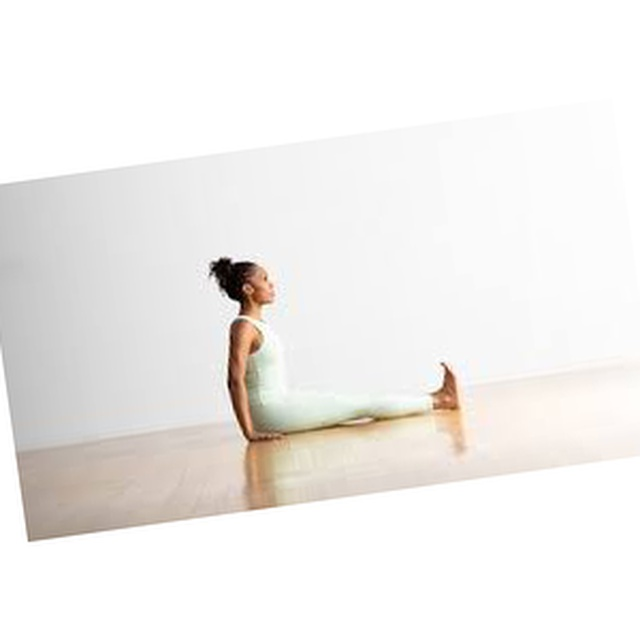Staff_Pose: (209, 256, 460, 443)
